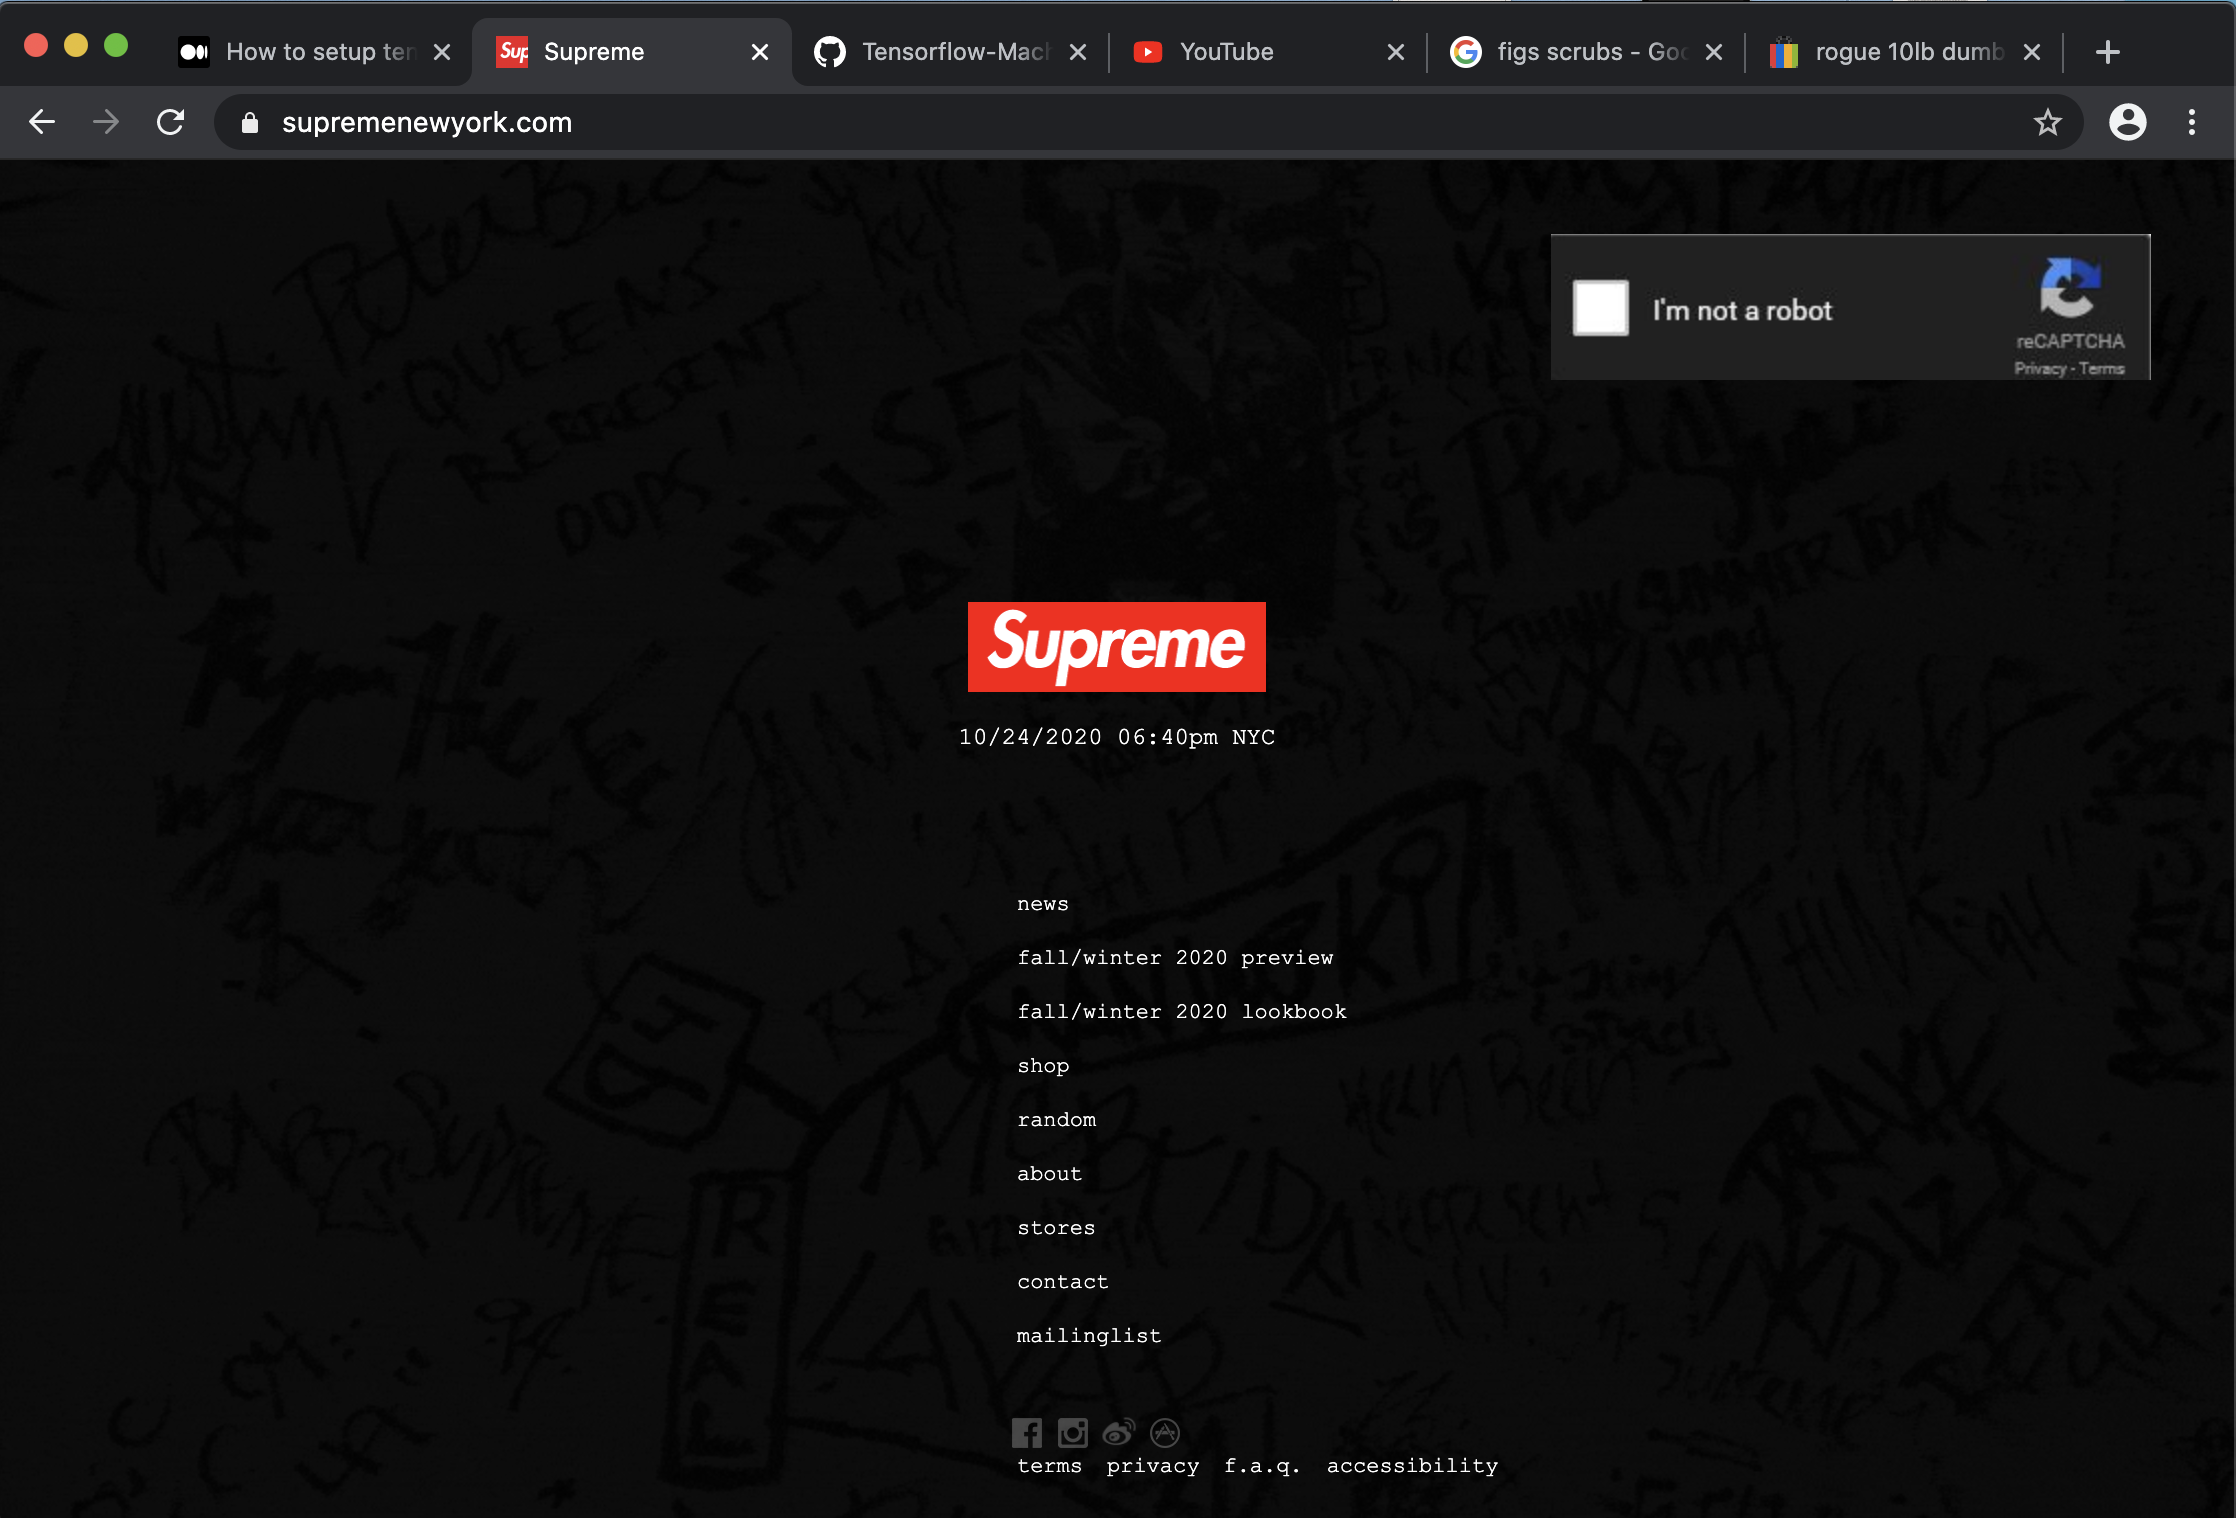captcha: (1538, 215, 2173, 408)
